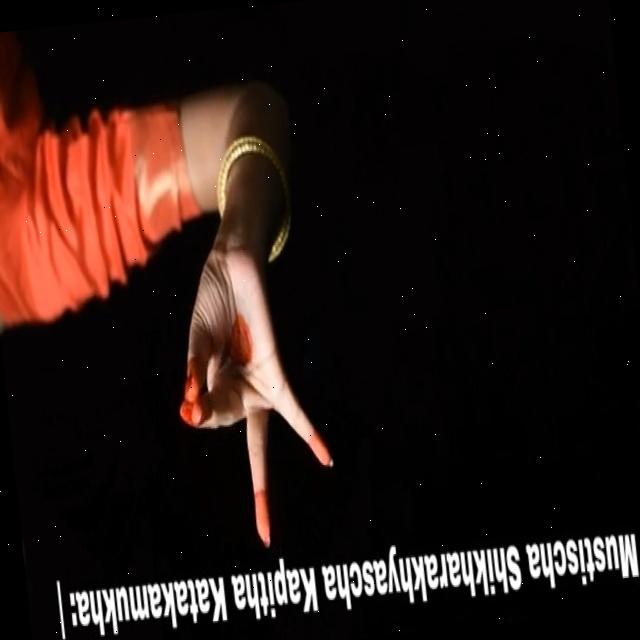Katakamukha: (134, 215, 354, 556)
bangle: (208, 118, 300, 215)
text: (44, 506, 640, 640)
